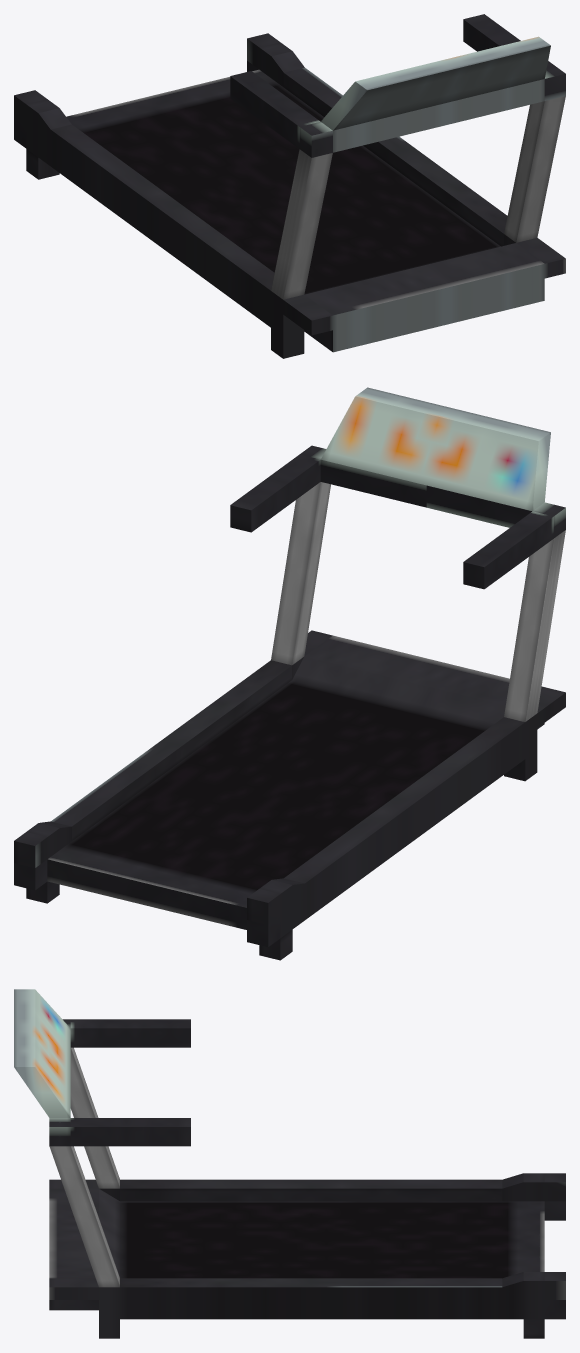
Rendered from SM_tredmil1.fbx.
3 views of the same model, one above another, from view 1: azimuth 30°, elevation 25°; view 2: azimuth 150°, elevation 25°; view 3: azimuth 270°, elevation 25° (orthographic). The views are drawn at different scales.
Visible parts, largest first — view 1: tredmil1; view 2: tredmil1; view 3: tredmil1.
Boxes of the visible parts, bbox=[...] form: tredmil1: bbox=[14, 14, 565, 358]; tredmil1: bbox=[14, 387, 565, 960]; tredmil1: bbox=[14, 989, 565, 1338].
Size of the model in its own units: 35.99 by 40 by 78.
